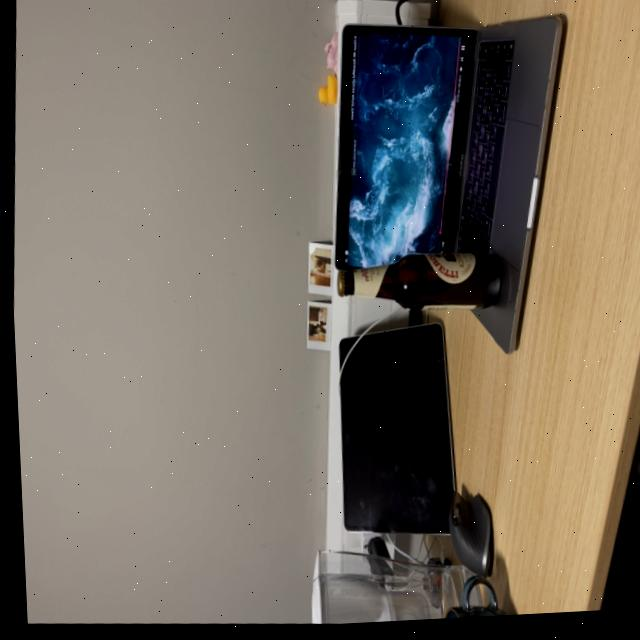beer: (329, 245, 513, 325)
